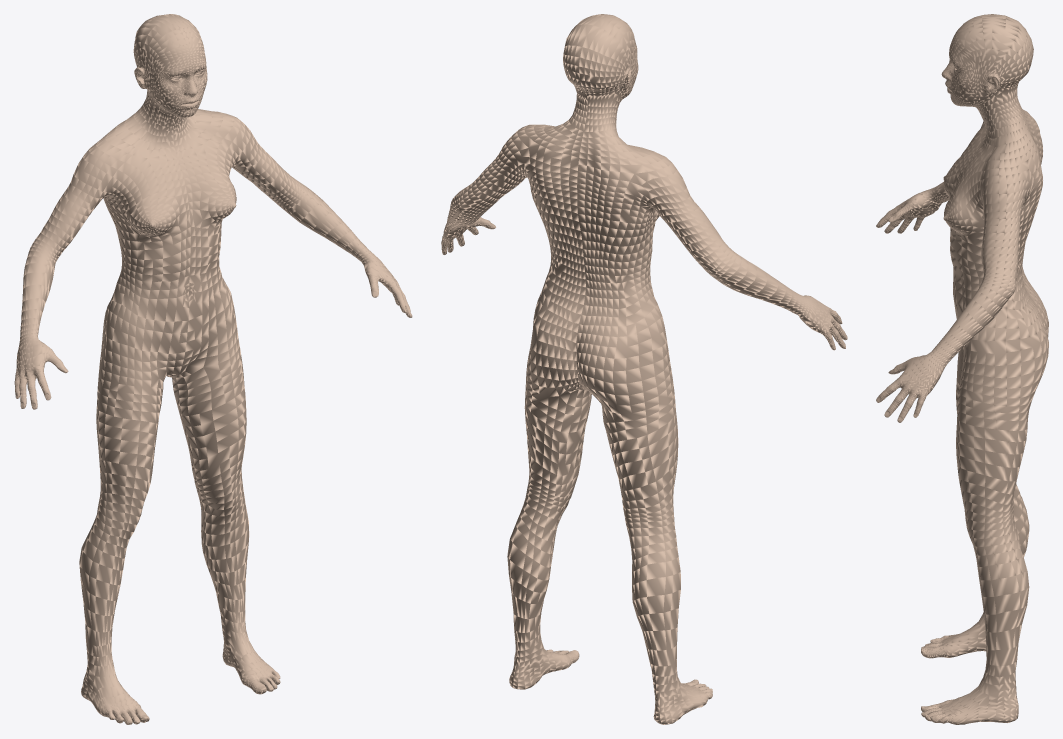
Rendered from female_low_high.glb.
The picture shows the model from 3 angles, left to right: view 1: azimuth 30°, elevation 25°; view 2: azimuth 150°, elevation 25°; view 3: azimuth 270°, elevation 25°; orthographic projection. The views are drawn at different scales.
Visible parts, largest first — view 1: female_low_highMesh; view 2: female_low_highMesh; view 3: female_low_highMesh.
Part boxes in pixels (box(x1,y1,x2,y2)): female_low_highMesh: box(14, 14, 412, 724); female_low_highMesh: box(441, 14, 847, 724); female_low_highMesh: box(876, 14, 1048, 724).
Size of the model in its own units: 9.81 by 16.06 by 3.76.
